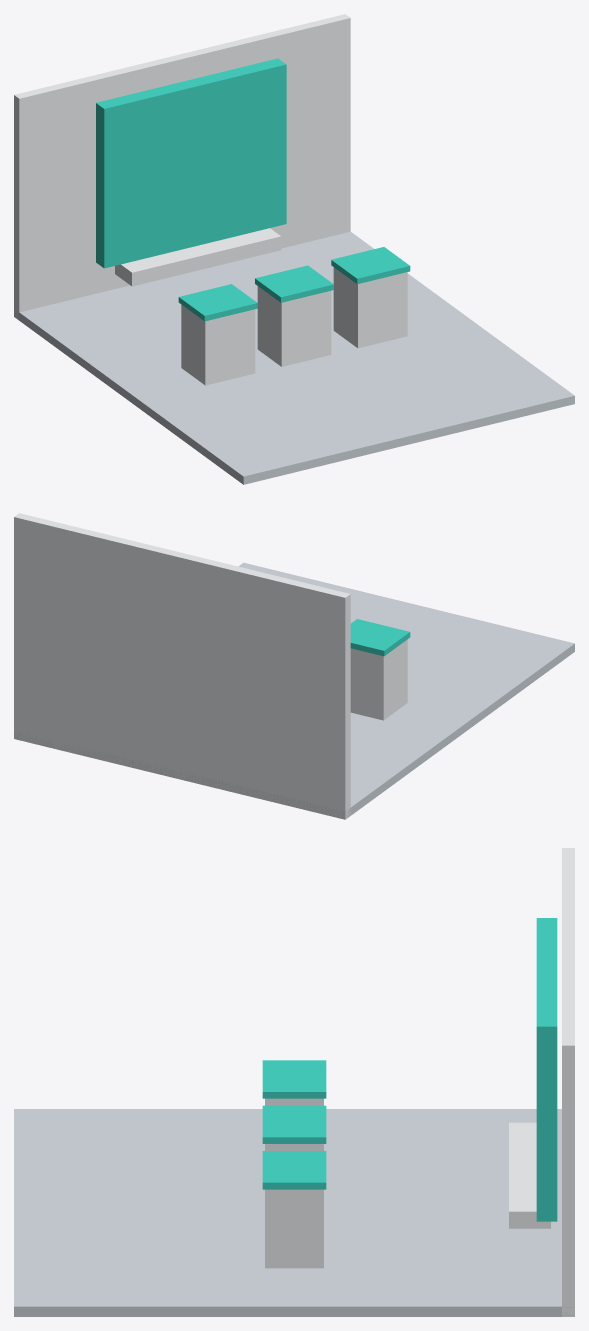
3 renders of one model, top to bottom at view 1: azimuth 30°, elevation 25°; view 2: azimuth 150°, elevation 25°; view 3: azimuth 270°, elevation 25°, orthographic. The views are drawn at different scales.
Parts seen in each view (by area): view 1: Exhibition Booth Concept; view 2: Exhibition Booth Concept; view 3: Exhibition Booth Concept.
Part boxes in pixels (left/top/right/bottom): Exhibition Booth Concept: left=14, top=14, right=574, bottom=484; Exhibition Booth Concept: left=14, top=513, right=574, bottom=819; Exhibition Booth Concept: left=14, top=848, right=574, bottom=1316.
Bounding box in the file's own units: 5 × 3.2 × 6.
